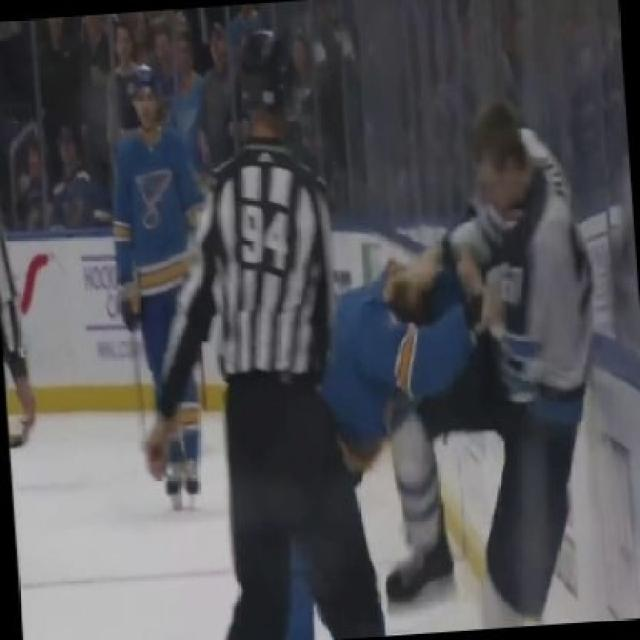fight: (226, 112, 639, 638)
non-fight: (157, 55, 395, 640), (108, 59, 226, 514)
